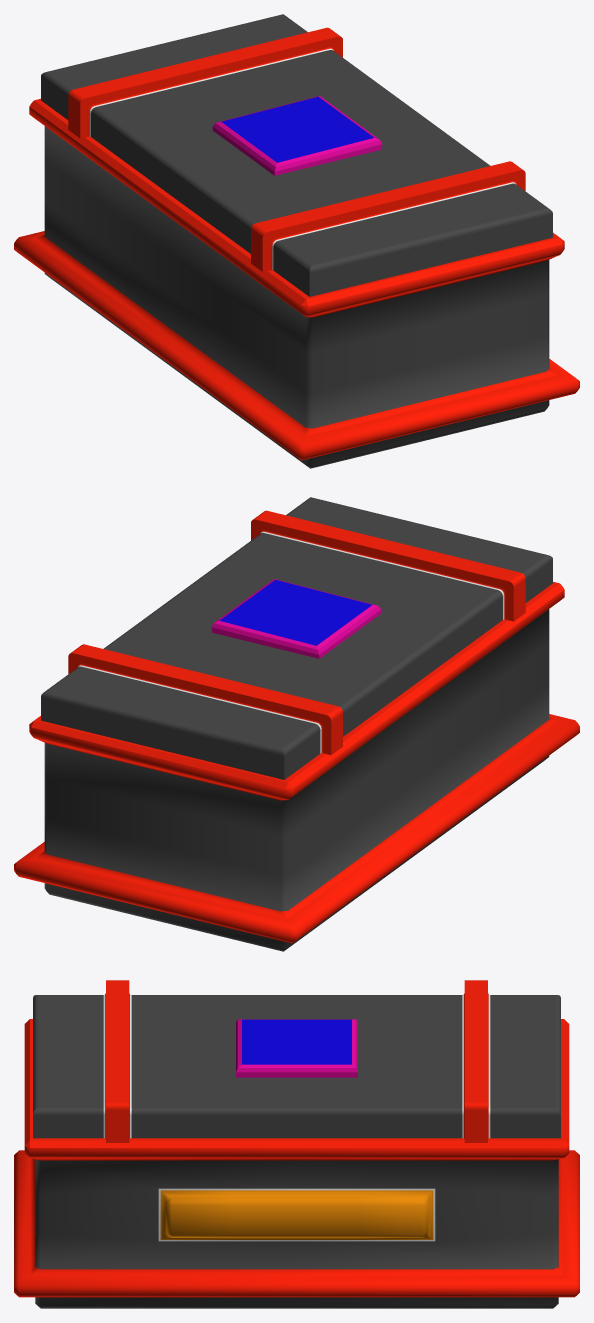
The model's file is Chest.fbx.
The picture shows the model from 3 angles, top to bottom: view 1: azimuth 30°, elevation 25°; view 2: azimuth 150°, elevation 25°; view 3: azimuth 270°, elevation 25°; orthographic projection.
Parts seen in each view (by area): view 1: Bottom, LeftDoor, RightDoor, Scanner; view 2: Bottom, RightDoor, LeftDoor, Scanner; view 3: Bottom, RightDoor, LeftDoor, Scanner.
Boxes of the visible parts, left/top/right/bottom form: Bottom: left=14, top=98, right=579, bottom=468; LeftDoor: left=175, top=111, right=552, bottom=296; RightDoor: left=41, top=14, right=416, bottom=198; Scanner: left=212, top=96, right=382, bottom=175; Bottom: left=14, top=581, right=579, bottom=951; RightDoor: left=41, top=594, right=418, bottom=779; LeftDoor: left=177, top=497, right=552, bottom=681; Scanner: left=211, top=579, right=381, bottom=658; Bottom: left=14, top=1019, right=579, bottom=1308; RightDoor: left=297, top=980, right=560, bottom=1142; LeftDoor: left=33, top=980, right=296, bottom=1142; Scanner: left=236, top=1019, right=357, bottom=1077.
Bounding box in the file's own units: 233 × 169 × 410.
